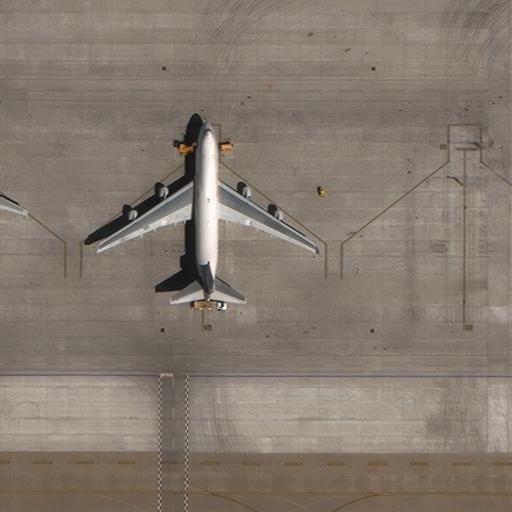Large Civil Transport: (98, 120, 317, 302)
